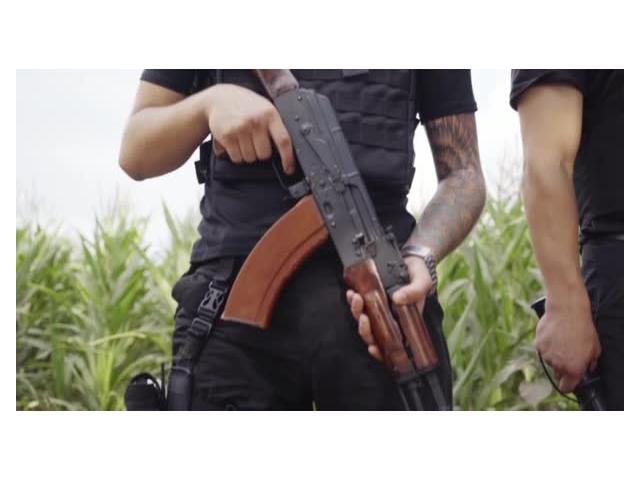rifle: (204, 83, 453, 413)
